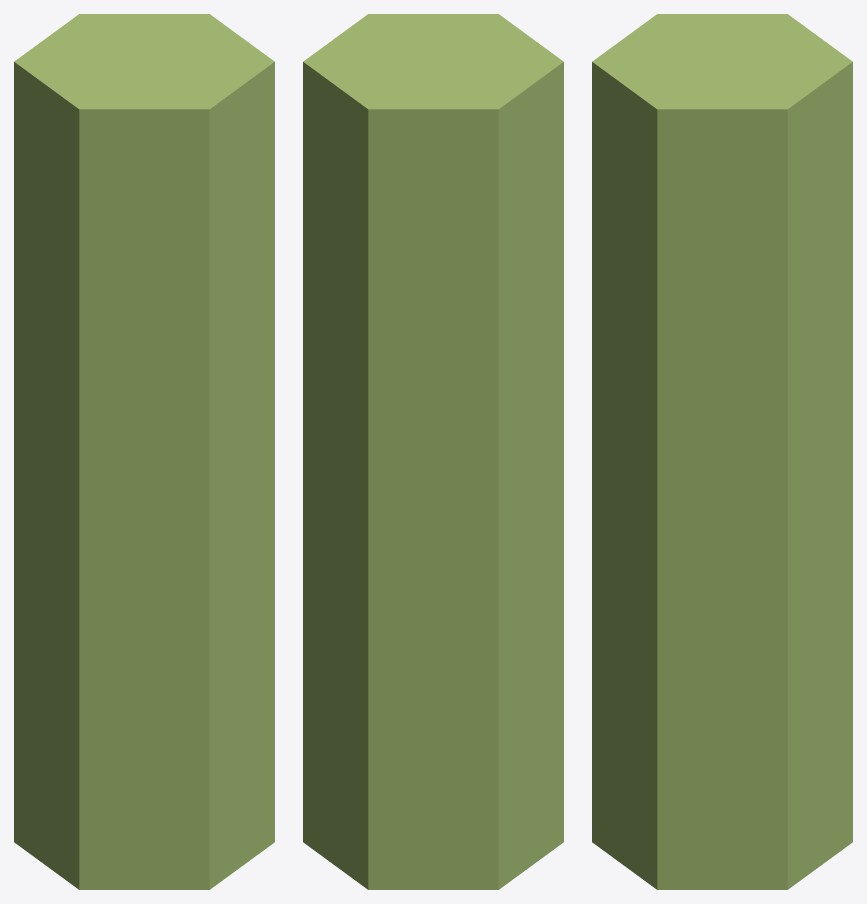
The model's file is 01_Tuile_Simple_01_V001.fbx.
3 views of the same model, side by side, from view 1: azimuth 30°, elevation 25°; view 2: azimuth 150°, elevation 25°; view 3: azimuth 270°, elevation 25° (orthographic).
Parts seen in each view (by area): view 1: Tuile_simple; view 2: Tuile_simple; view 3: Tuile_simple.
Boxes of the visible parts, left/top/right/bottom form: Tuile_simple: left=14, top=14, right=274, bottom=889; Tuile_simple: left=303, top=14, right=563, bottom=889; Tuile_simple: left=592, top=14, right=852, bottom=889.
Bounding box in the file's own units: 1.73 × 6.6 × 2.
